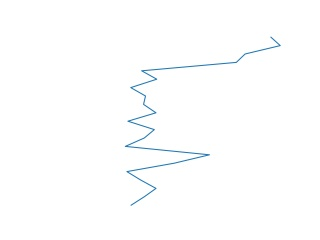crevasseRiverChannelBar: (120, 33, 287, 212)
